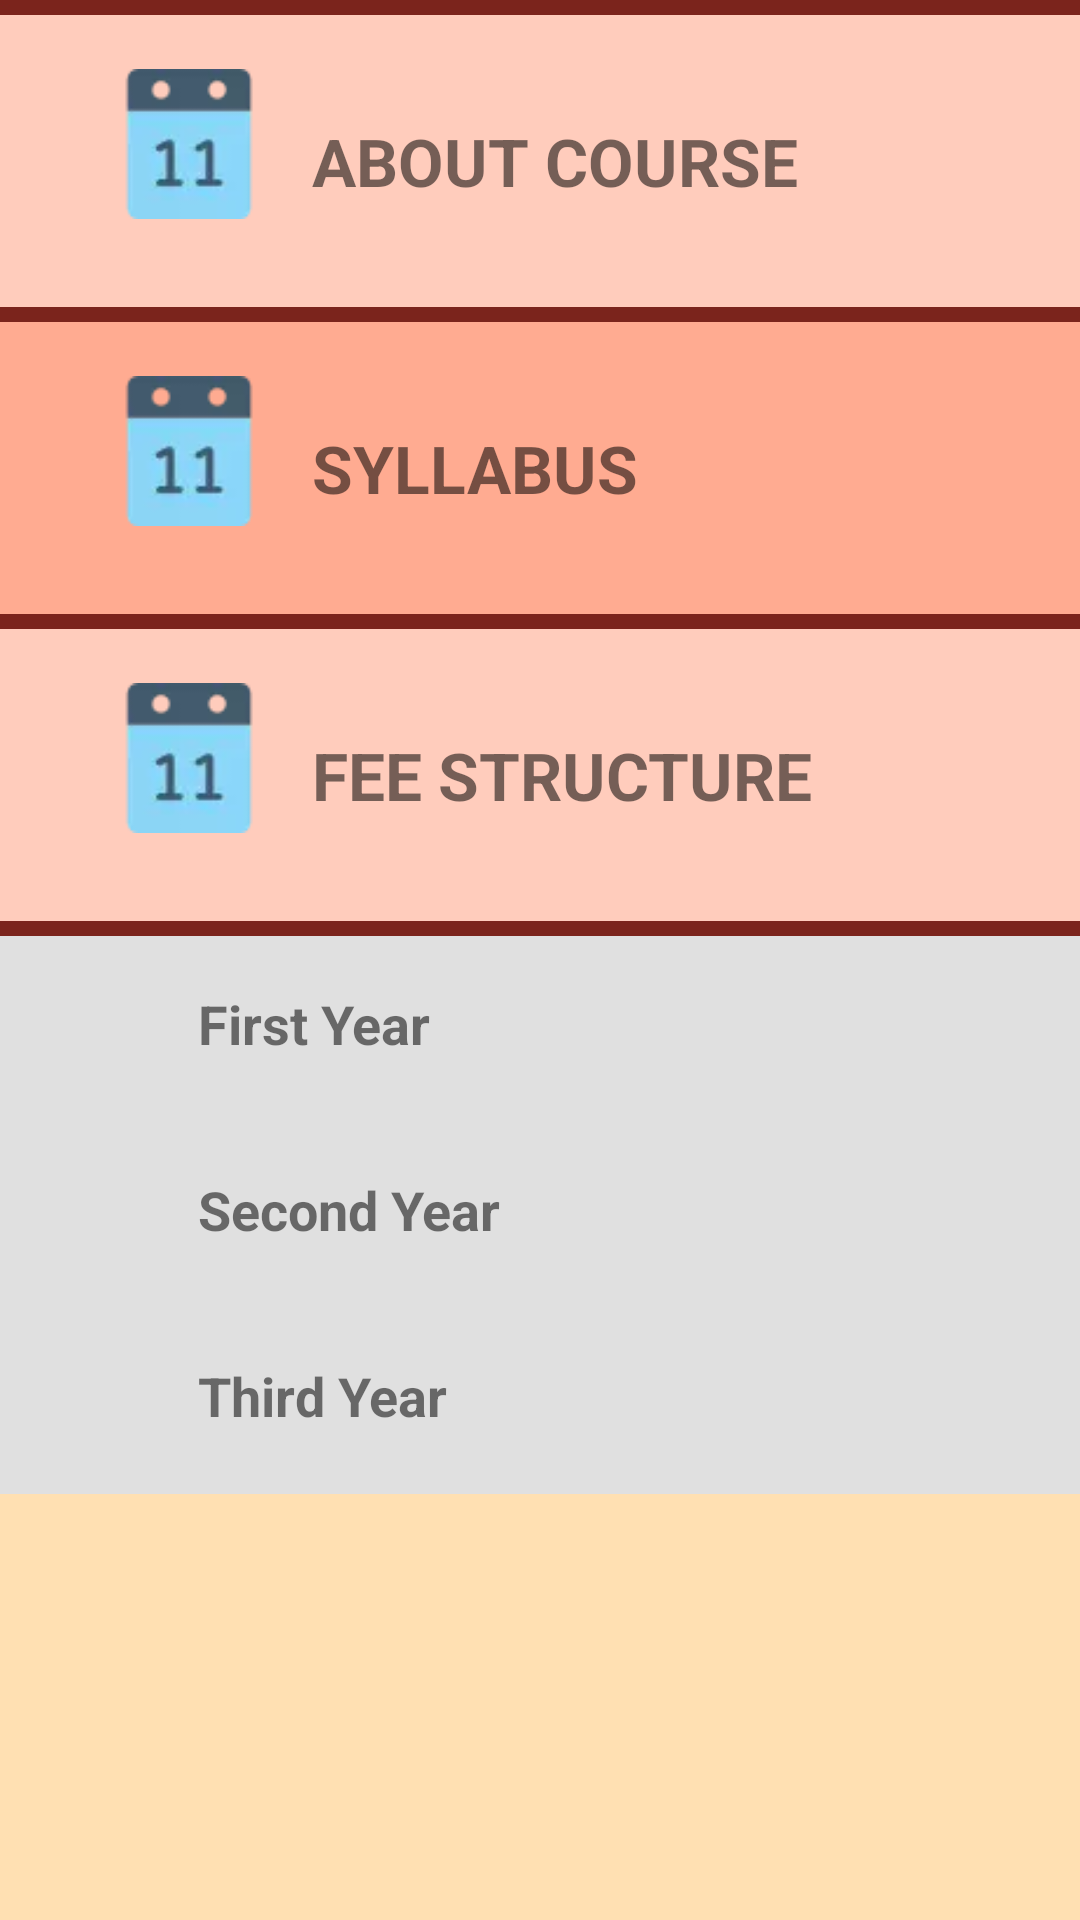

Icon bounding boxes for this 1080*1920 phone screenshot, format (x1, y1, x2, y2):
calendar: (125, 69, 253, 219), (125, 376, 253, 526), (125, 683, 253, 833)
